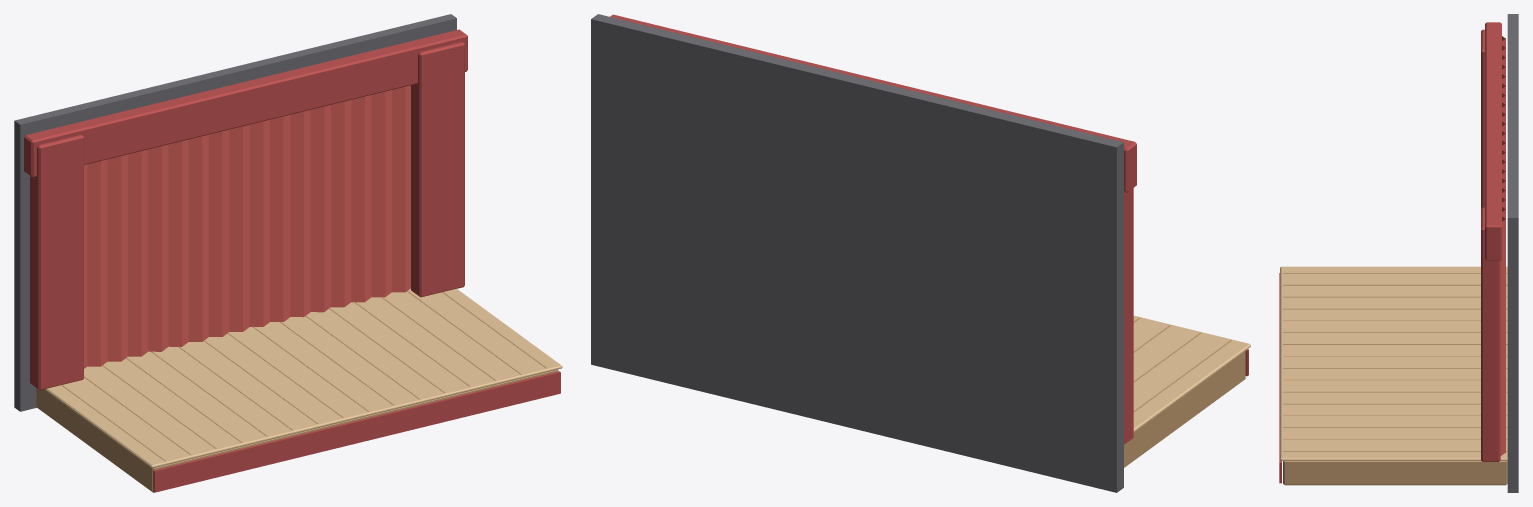
The model's file is env_hall_stage_01.glb.
3 views of the same model, side by side, from view 1: azimuth 30°, elevation 25°; view 2: azimuth 150°, elevation 25°; view 3: azimuth 270°, elevation 25° (orthographic). The views are drawn at different scales.
Visible parts, largest first — view 1: env_hall_stage_01_body; view 2: env_hall_stage_01_body; view 3: env_hall_stage_01_body.
Boxes of the visible parts, box(x1,y1,x2,y2) form: env_hall_stage_01_body: box(14, 14, 562, 492); env_hall_stage_01_body: box(591, 14, 1250, 492); env_hall_stage_01_body: box(1279, 14, 1518, 492).
Bounding box in the file's own units: 8.6 × 5.4 × 4.26.
